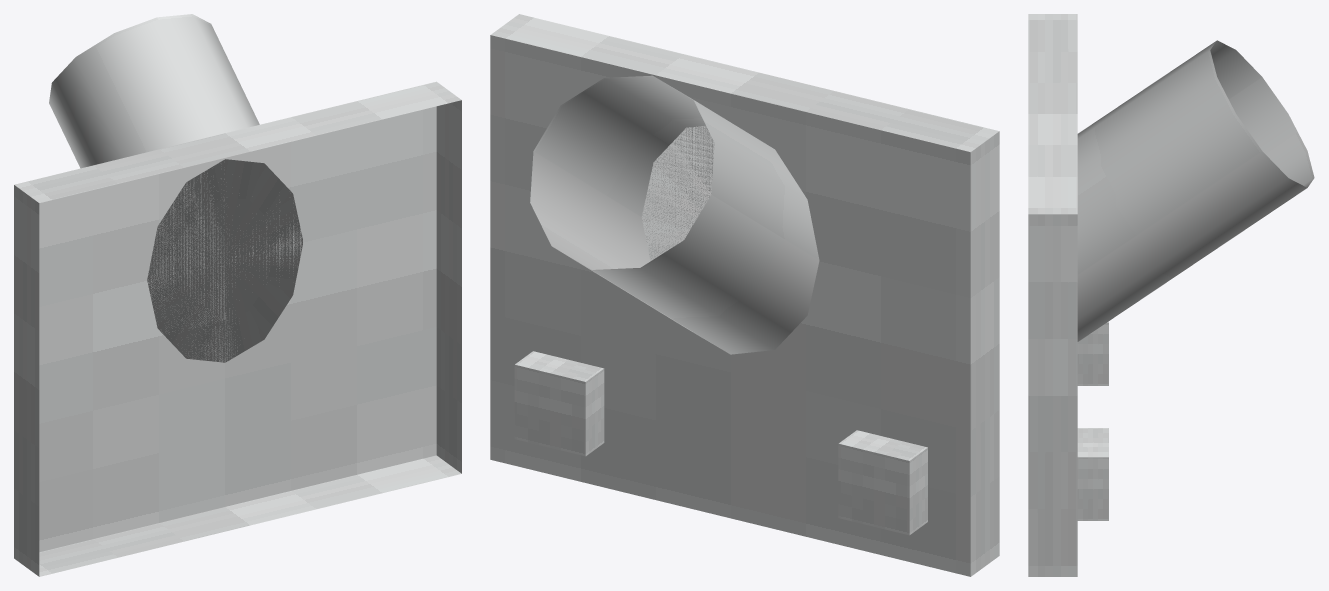
File: luminairearm_truss10ftstraightdouble_c1_wall.obj
3 views of the same model, side by side, from view 1: azimuth 30°, elevation 25°; view 2: azimuth 150°, elevation 25°; view 3: azimuth 270°, elevation 25° (orthographic). The views are drawn at different scales.
Parts seen in each view (by area): view 1: luminairearm_truss10ftstraightdouble_c1_wall; view 2: luminairearm_truss10ftstraightdouble_c1_wall; view 3: luminairearm_truss10ftstraightdouble_c1_wall.
Boxes of the visible parts, x1,y1,x2,y2 form: luminairearm_truss10ftstraightdouble_c1_wall: (14, 14, 461, 576); luminairearm_truss10ftstraightdouble_c1_wall: (490, 14, 999, 576); luminairearm_truss10ftstraightdouble_c1_wall: (1028, 14, 1314, 576).
Bounding box in the file's own units: 0.4221 × 0.4194 × 0.255.
